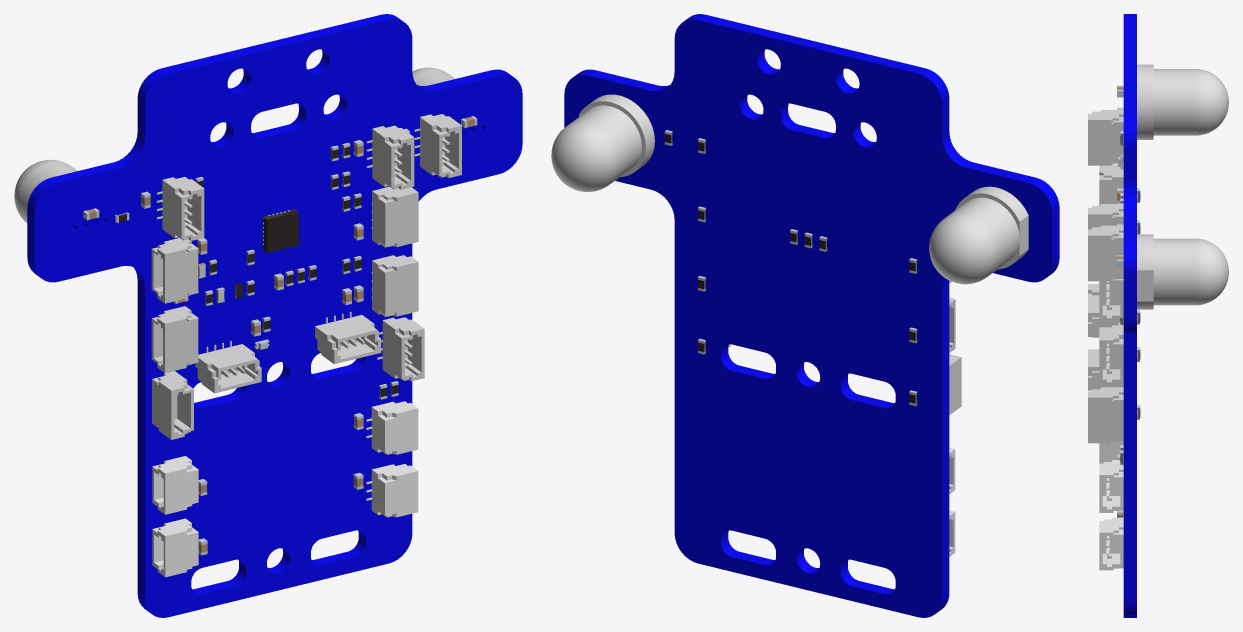
The model's file is Front_bumper.obj.
3 views of the same model, side by side, from view 1: azimuth 30°, elevation 25°; view 2: azimuth 150°, elevation 25°; view 3: azimuth 270°, elevation 25° (orthographic). The views are drawn at different scales.
Visible parts, largest first — view 1: Body1:17, Body1:5, Body1:2, Body1:7, Body1:6, Body1:8, Body1:9, Body1:3, Body1:10, Body1:1, Body1, Body1:4 (+6 smaller); view 2: Body1:17, Body1:12, Body1:11, Body1:4; view 3: Body1:17, Body1:12, Body1:11, Body1:3, Body1:10, Body1:8, Body1:2, Body1:14, Body1:16, Body1:6, Body1:7, Body1:9 (+3 smaller).
Part boxes in pixels (x1,y1,x2,y2): Body1:17: [27, 14, 522, 617]; Body1:5: [151, 306, 198, 372]; Body1:2: [371, 255, 418, 316]; Body1:7: [151, 238, 198, 303]; Body1:6: [371, 186, 418, 247]; Body1:8: [156, 177, 204, 240]; Body1:9: [366, 125, 414, 189]; Body1:3: [377, 317, 424, 381]; Body1:10: [414, 114, 461, 178]; Body1:1: [315, 312, 381, 364]; Body1: [195, 341, 261, 393]; Body1:4: [152, 371, 193, 439]; Body1:17: [564, 14, 1059, 617]; Body1:12: [551, 94, 654, 191]; Body1:11: [929, 186, 1028, 284]; Body1:4: [949, 354, 961, 414]; Body1:17: [1123, 14, 1136, 617]; Body1:12: [1137, 234, 1228, 309]; Body1:11: [1137, 64, 1228, 139]; Body1:3: [1088, 387, 1123, 443]; Body1:10: [1088, 225, 1123, 281]; Body1:8: [1088, 110, 1123, 165]; Body1:2: [1099, 325, 1123, 385]; Body1:14: [1099, 517, 1123, 570]; Body1:16: [1099, 460, 1123, 512]; Body1:6: [1099, 279, 1123, 321]; Body1:7: [1099, 164, 1123, 205]; Body1:9: [1088, 204, 1123, 229].
Bounding box in the file's own units: 62 × 66 × 16.85.
